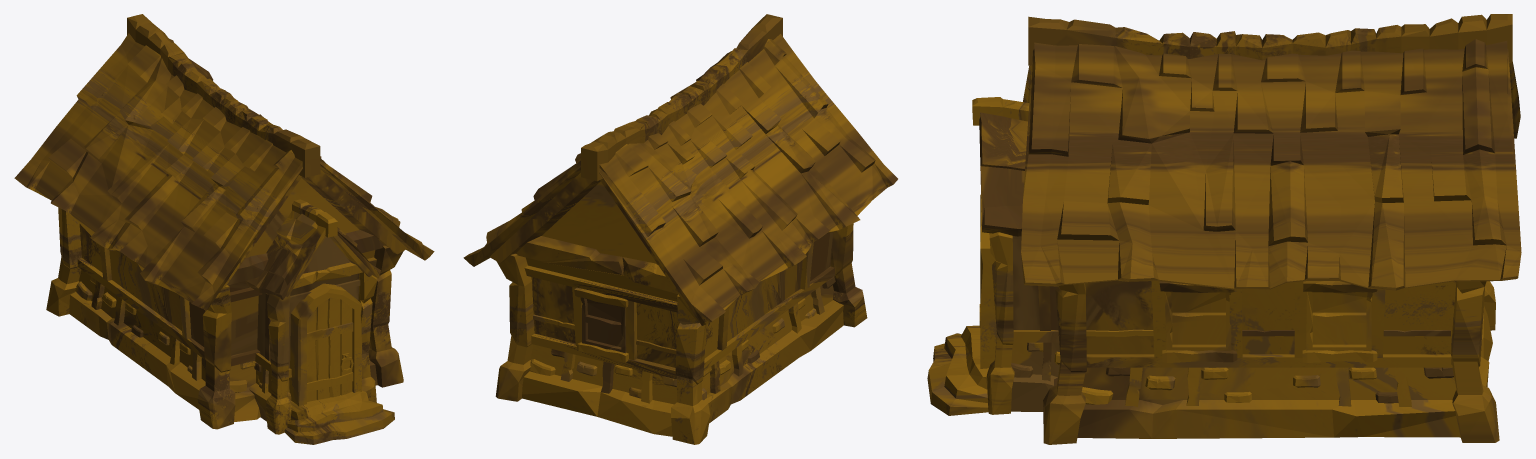
Rendered from old house.FBX.
The picture shows the model from 3 angles, left to right: view 1: azimuth 30°, elevation 25°; view 2: azimuth 150°, elevation 25°; view 3: azimuth 270°, elevation 25°; orthographic projection. The views are drawn at different scales.
Parts seen in each view (by area): view 1: SM_POLYGON_Bld_House_01_Synty; view 2: SM_POLYGON_Bld_House_01_Synty; view 3: SM_POLYGON_Bld_House_01_Synty.
Boxes of the visible parts, x1=… form: SM_POLYGON_Bld_House_01_Synty: x1=14, y1=14, x2=434, y2=444; SM_POLYGON_Bld_House_01_Synty: x1=463, y1=14, x2=897, y2=444; SM_POLYGON_Bld_House_01_Synty: x1=927, y1=14, x2=1521, y2=444.
Size of the model in its own units: 198 by 201 by 298.
1 material, 1 textured.
